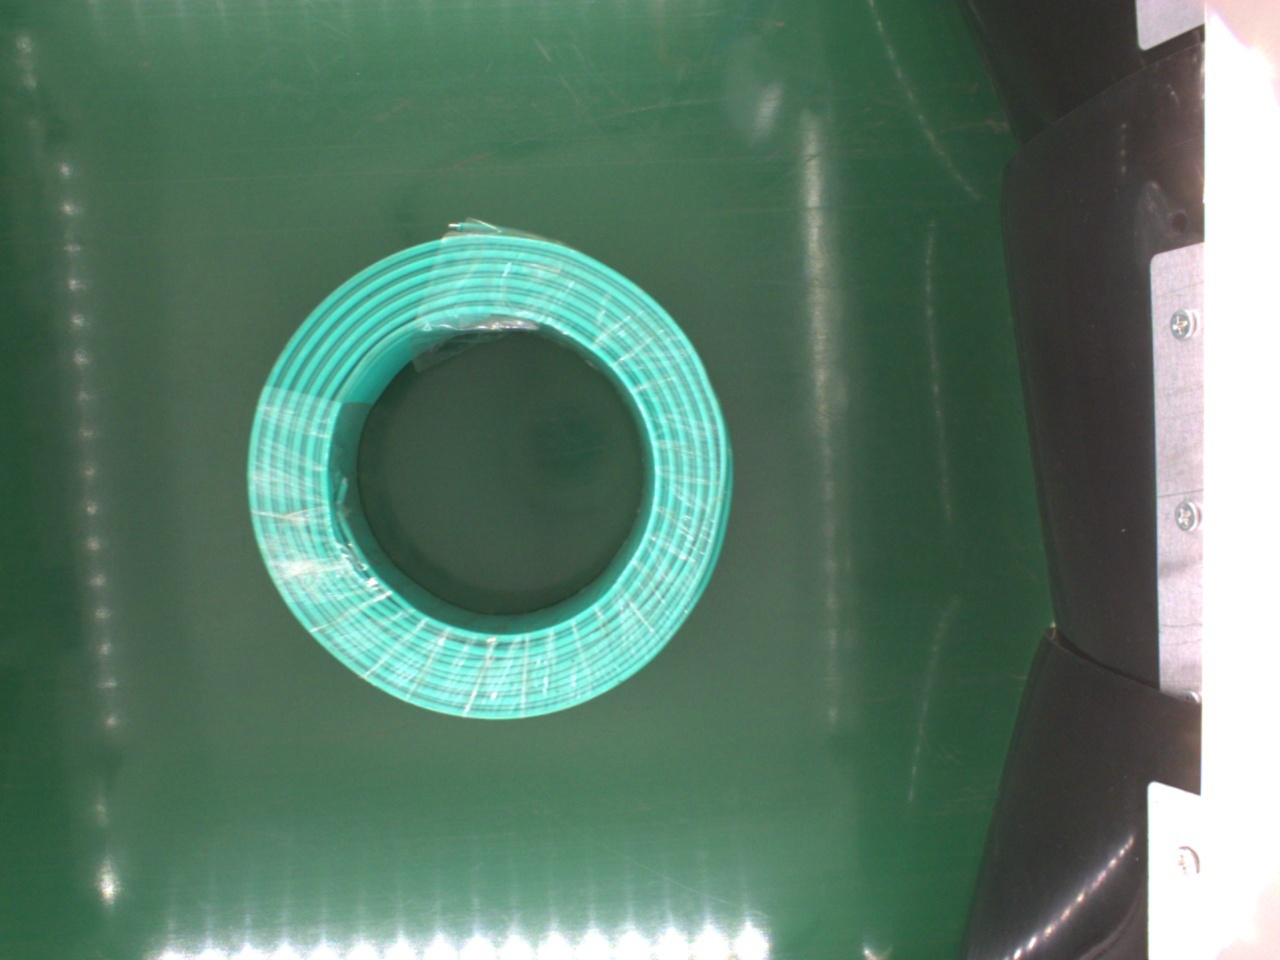green: (239, 225, 729, 720)
